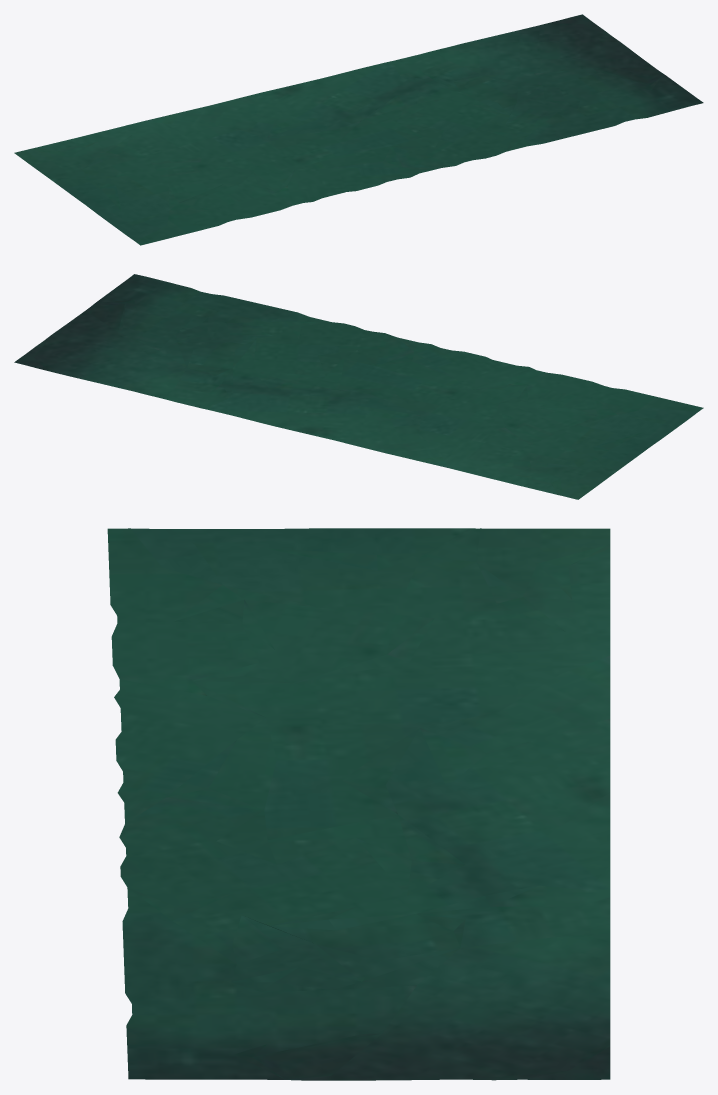
3 renders of one model, top to bottom at view 1: azimuth 30°, elevation 25°; view 2: azimuth 150°, elevation 25°; view 3: azimuth 270°, elevation 25°, orthographic. The views are drawn at different scales.
Size of the model in its own units: 209 by 0.3881 by 80.59.
1 material, 1 textured.
